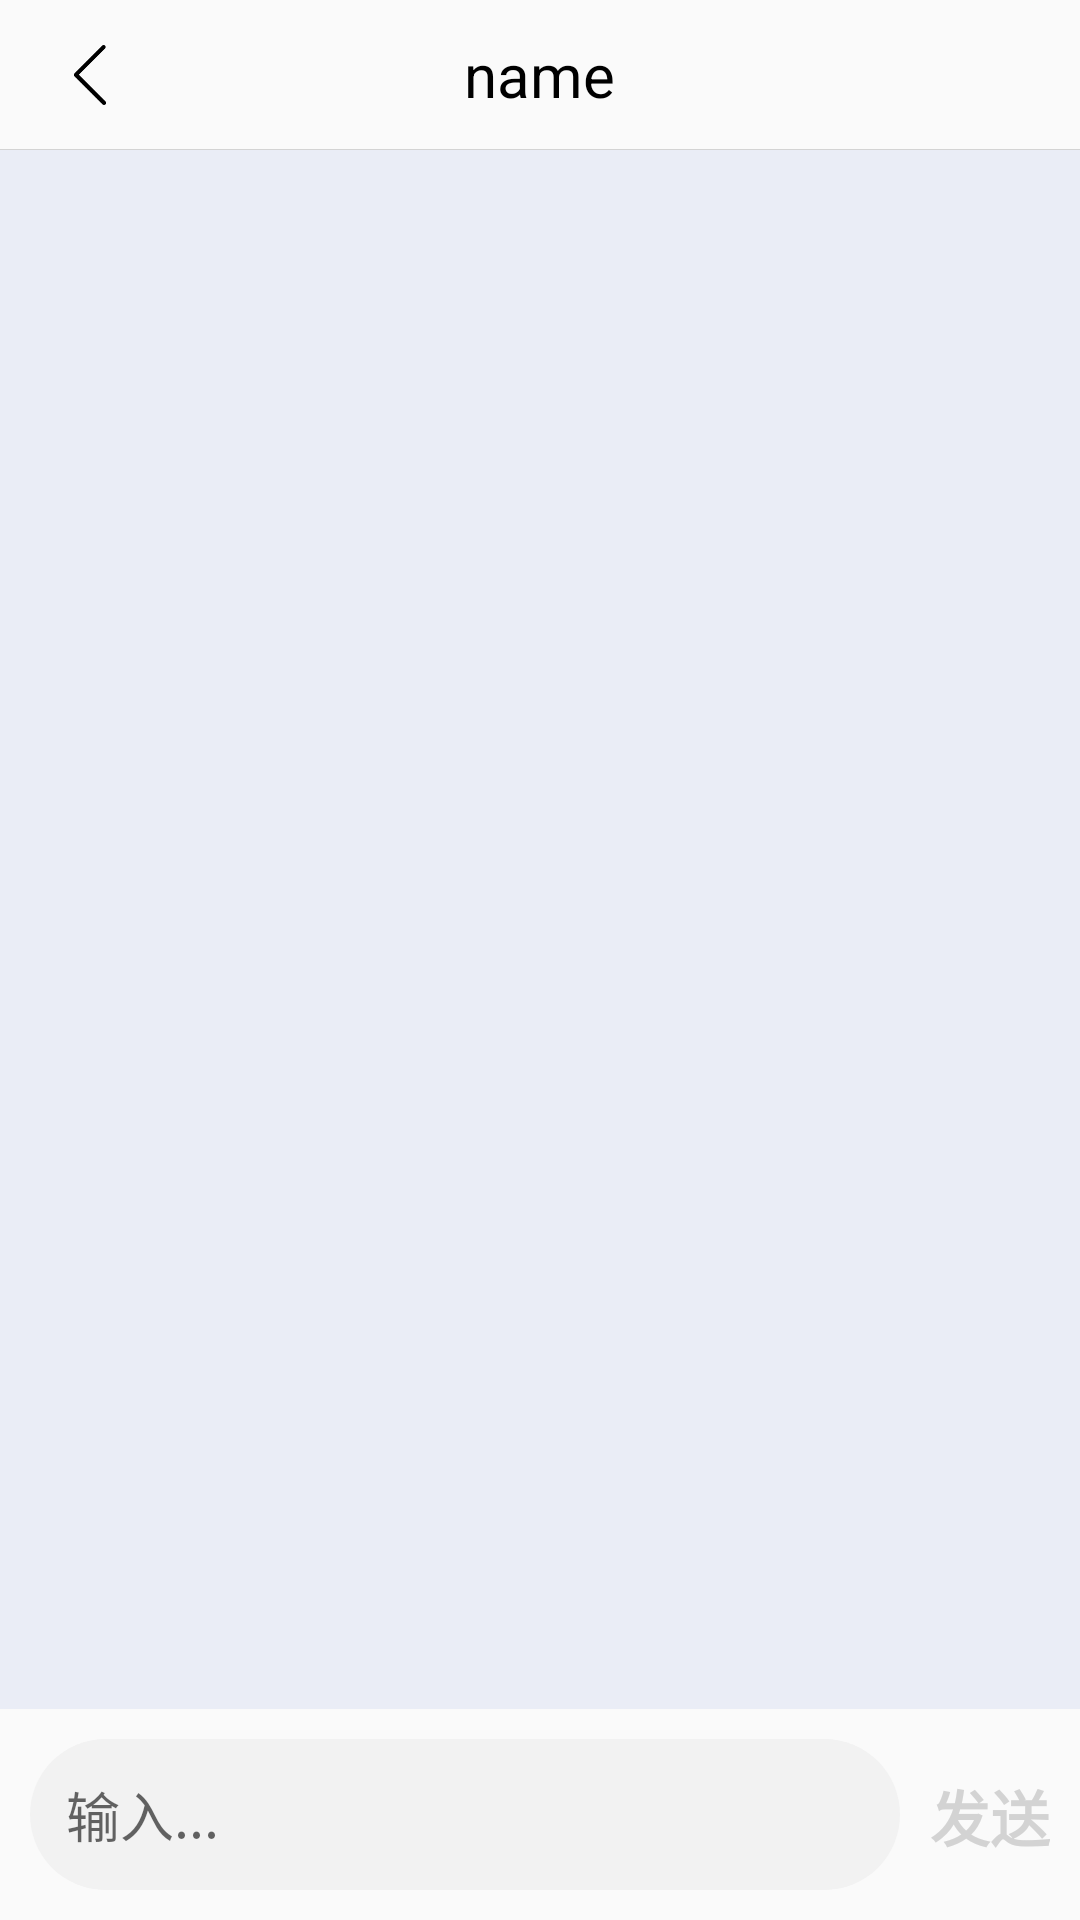

Where icons sit on this 1080*1920 app screen, as (x1, y1, x2, y2):
back: (74, 45, 106, 105)
